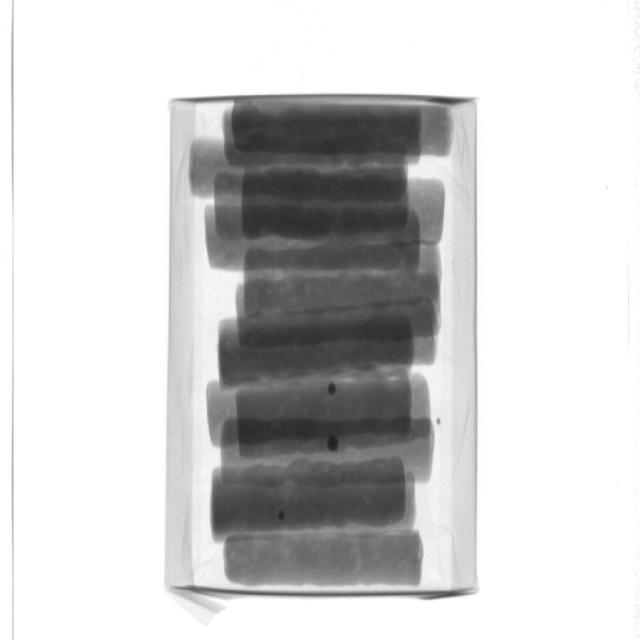ym: (327, 437, 340, 454), (328, 384, 336, 395), (279, 513, 287, 522), (436, 418, 442, 425)
